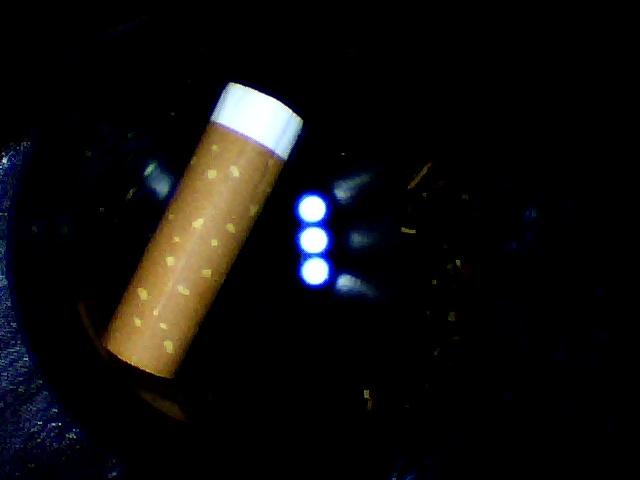megot: (83, 75, 312, 387)
